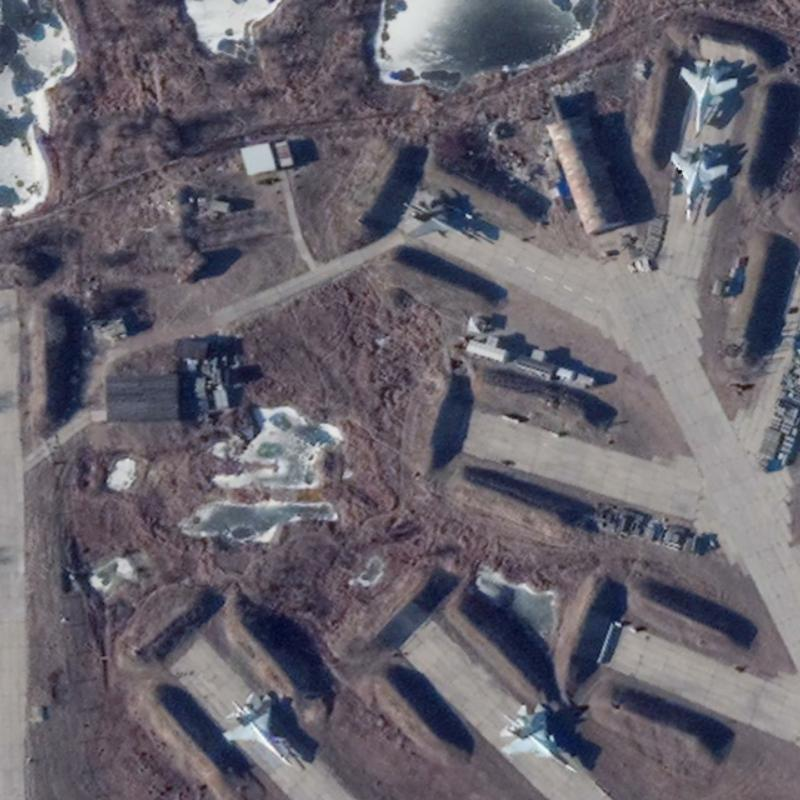A1: (219, 688, 294, 768), (676, 57, 739, 135), (401, 188, 474, 240)
A19: (497, 700, 582, 775), (667, 140, 731, 223)
